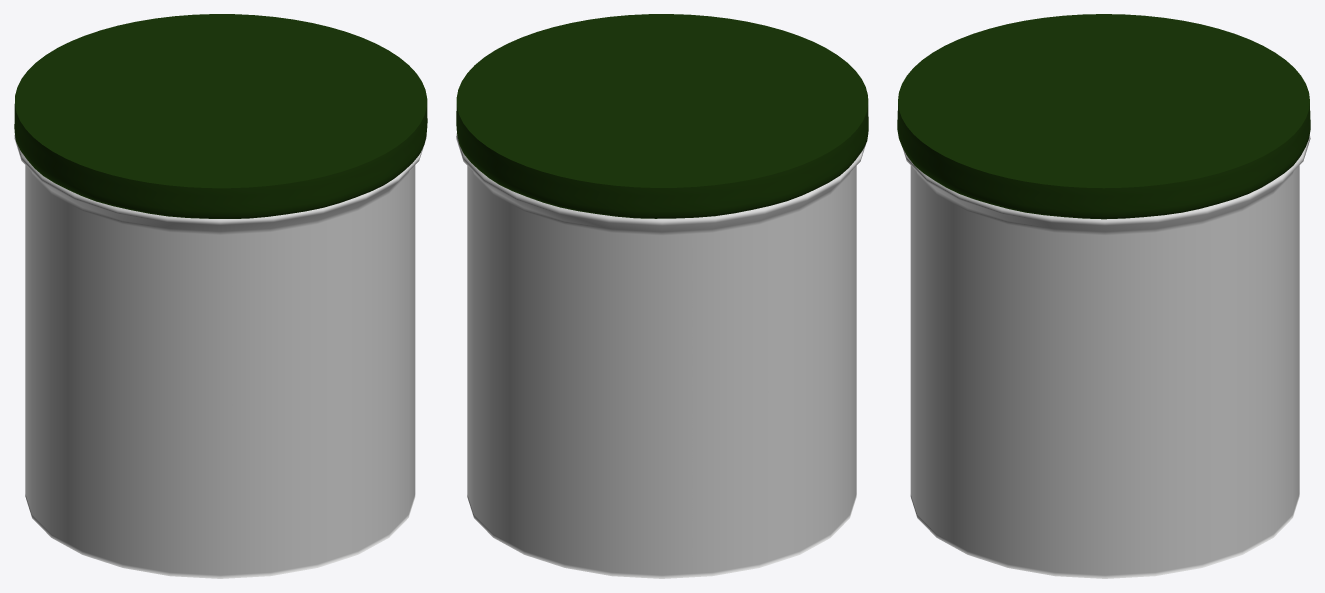
3 views of the same model, side by side, from view 1: azimuth 30°, elevation 25°; view 2: azimuth 150°, elevation 25°; view 3: azimuth 270°, elevation 25° (orthographic).
Visible parts, largest first — view 1: Bottle.002, Cap.001; view 2: Bottle.002, Cap.001; view 3: Bottle.002, Cap.001.
Part boxes in pixels (bbox=[...]): Bottle.002: bbox=[14, 135, 426, 578]; Cap.001: bbox=[14, 14, 427, 218]; Bottle.002: bbox=[456, 133, 865, 578]; Cap.001: bbox=[456, 14, 868, 218]; Bottle.002: bbox=[902, 134, 1310, 578]; Cap.001: bbox=[897, 14, 1310, 219].
Bounding box in the file's own units: 0.108 × 0.1139 × 0.108.
